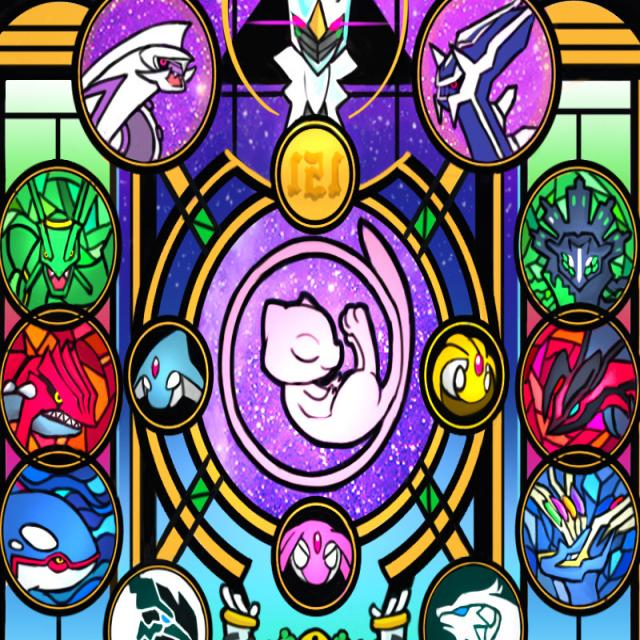Mew: (257, 291, 389, 446)
